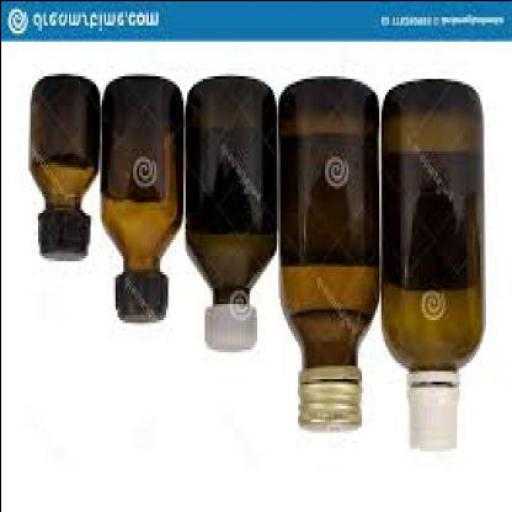glass: (378, 80, 481, 373), (277, 78, 377, 370), (182, 78, 276, 305), (99, 78, 180, 276), (27, 75, 97, 212)
metal: (295, 370, 359, 434)
plastic: (401, 372, 458, 454), (111, 276, 165, 324), (35, 215, 87, 263), (202, 306, 253, 354)
